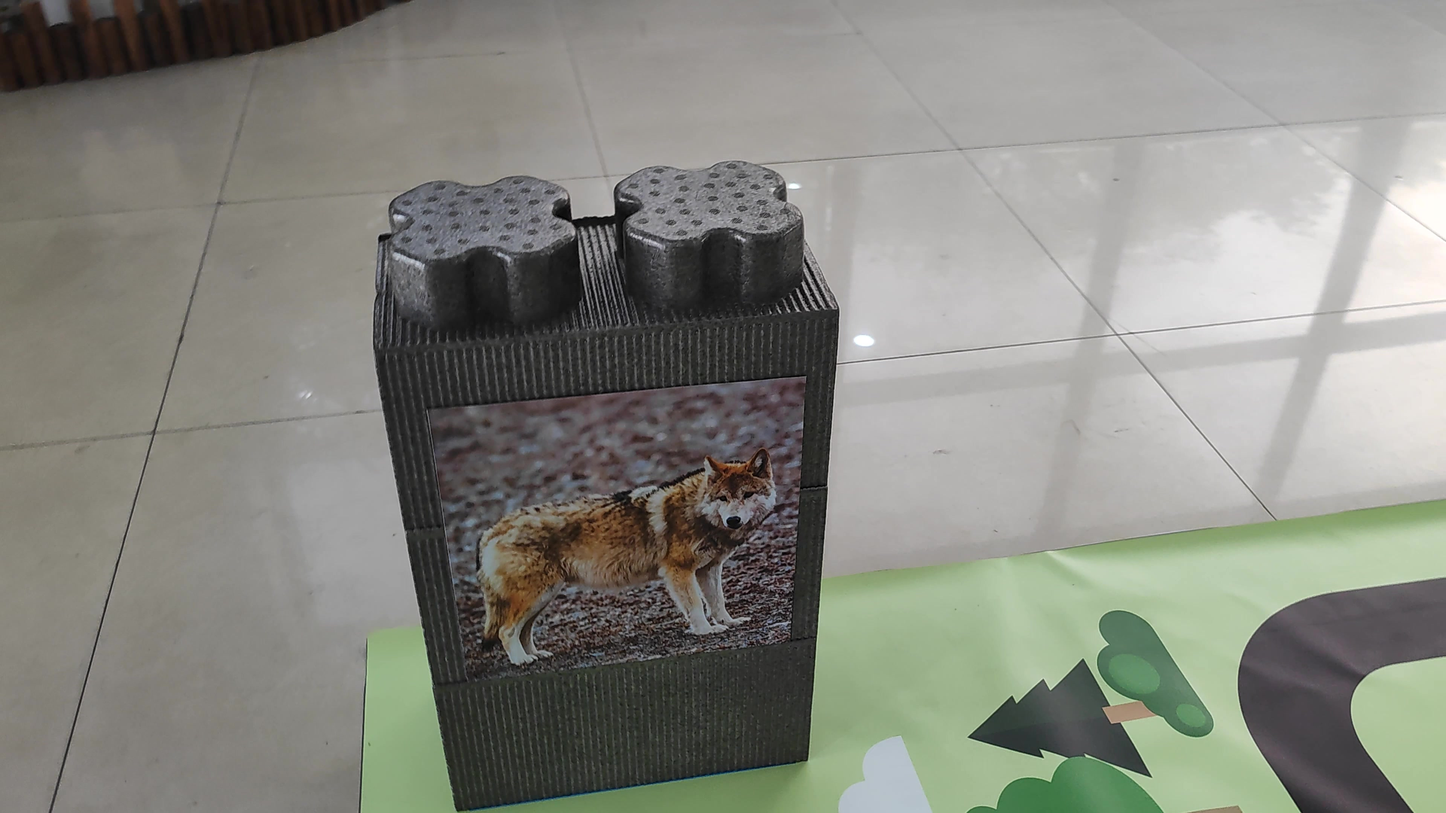wolf: (454, 416, 781, 676)
